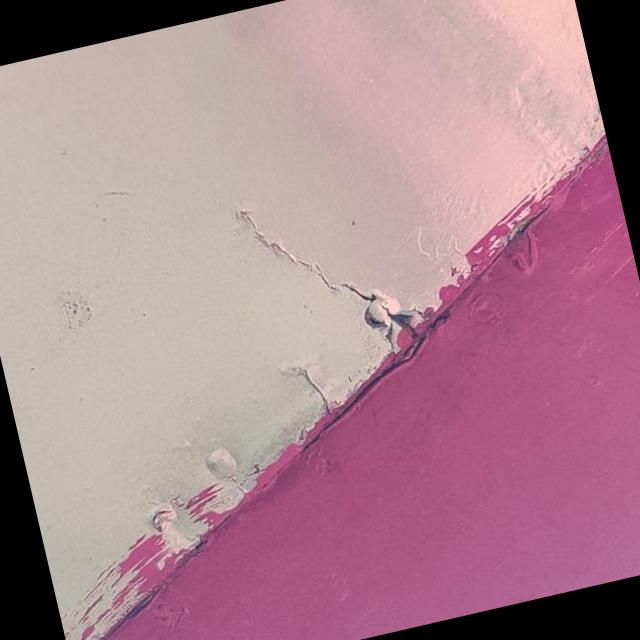Crack: (342, 283, 434, 352), (281, 364, 345, 413)
